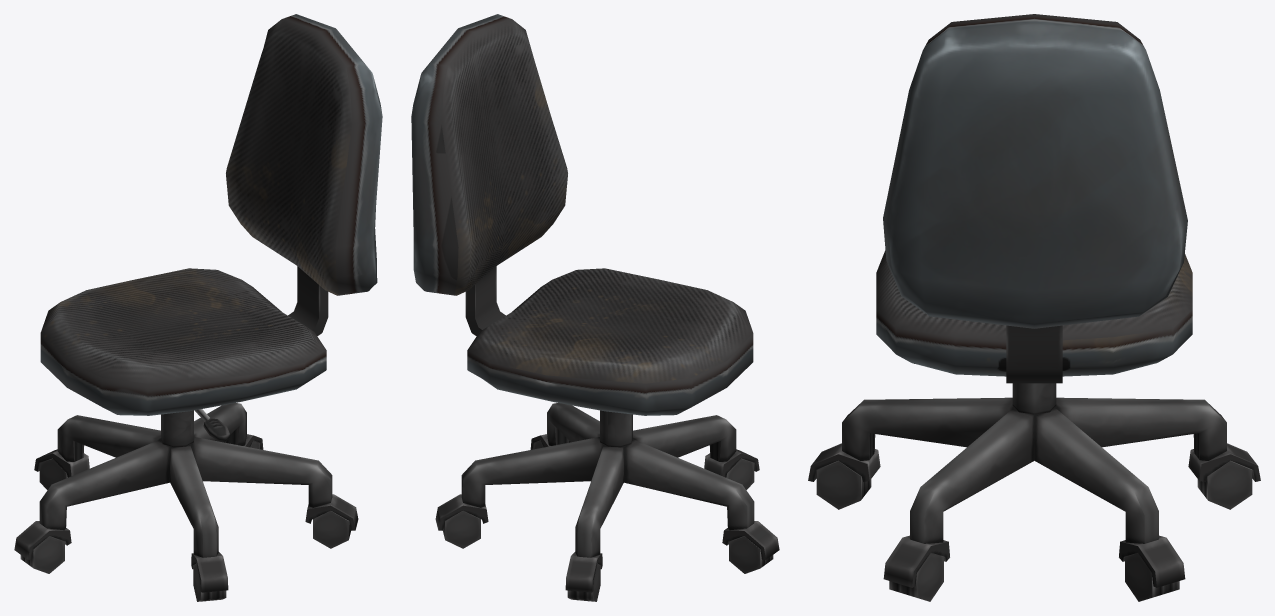
File: chair08.fbx
The picture shows the model from 3 angles, left to right: view 1: azimuth 30°, elevation 25°; view 2: azimuth 150°, elevation 25°; view 3: azimuth 270°, elevation 25°; orthographic projection. The views are drawn at different scales.
Parts seen in each view (by area): view 1: chair08; view 2: chair08; view 3: chair08.
Part boxes in pixels (<box>): chair08: <box>14,14,382,601</box>; chair08: <box>411,14,779,601</box>; chair08: <box>808,14,1260,601</box>.
Bounding box in the file's own units: 73.07 × 99.21 × 67.36.
